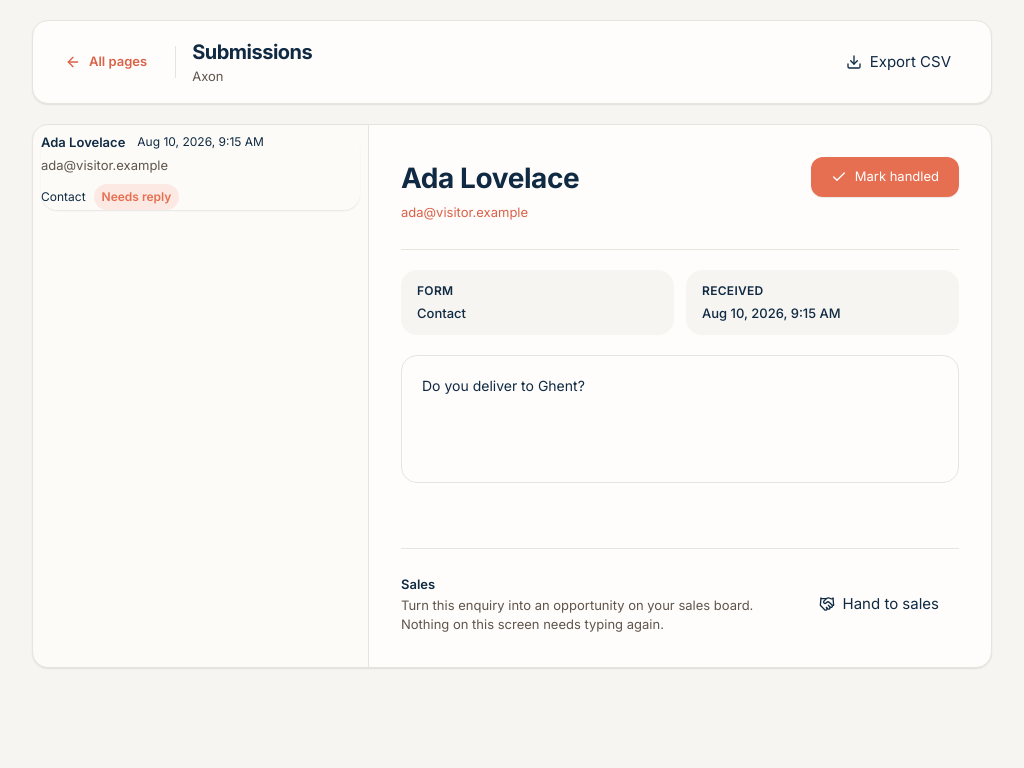
Test case: handing an enquiry to sales › asks only for what a person decides, and retypes nothing
Click the button "Hand to sales" at (879, 604), box left=798, top=584, right=959, bottom=624
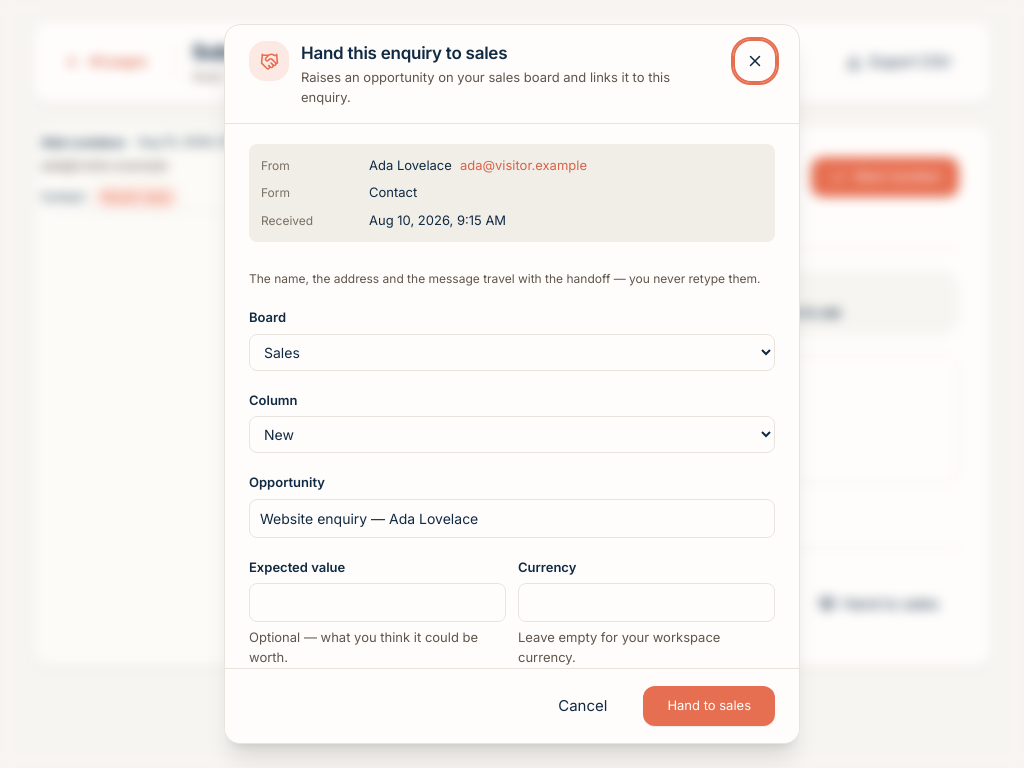
Result: the text "Ada Lovelace" is shown at left=369, top=156, right=452, bottom=172
Result: the link "ada@visitor.example" is shown at left=460, top=156, right=587, bottom=175
Result: the text "The name, the address and the message travel with the handoff — you never retype them." is shown at left=249, top=271, right=760, bottom=286
Type "2500,50" into the field labelled "Expected value" at (378, 602), box left=249, top=583, right=506, bottom=622
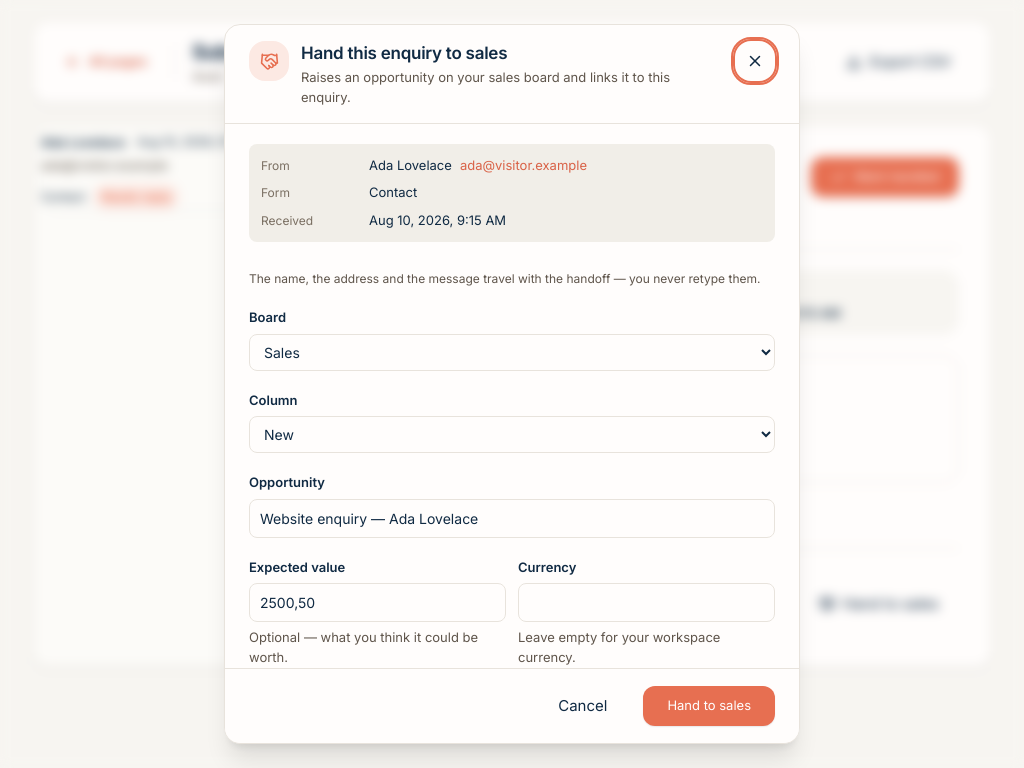
Click the button "Hand to sales" at (709, 706), box left=643, top=686, right=775, bottom=726
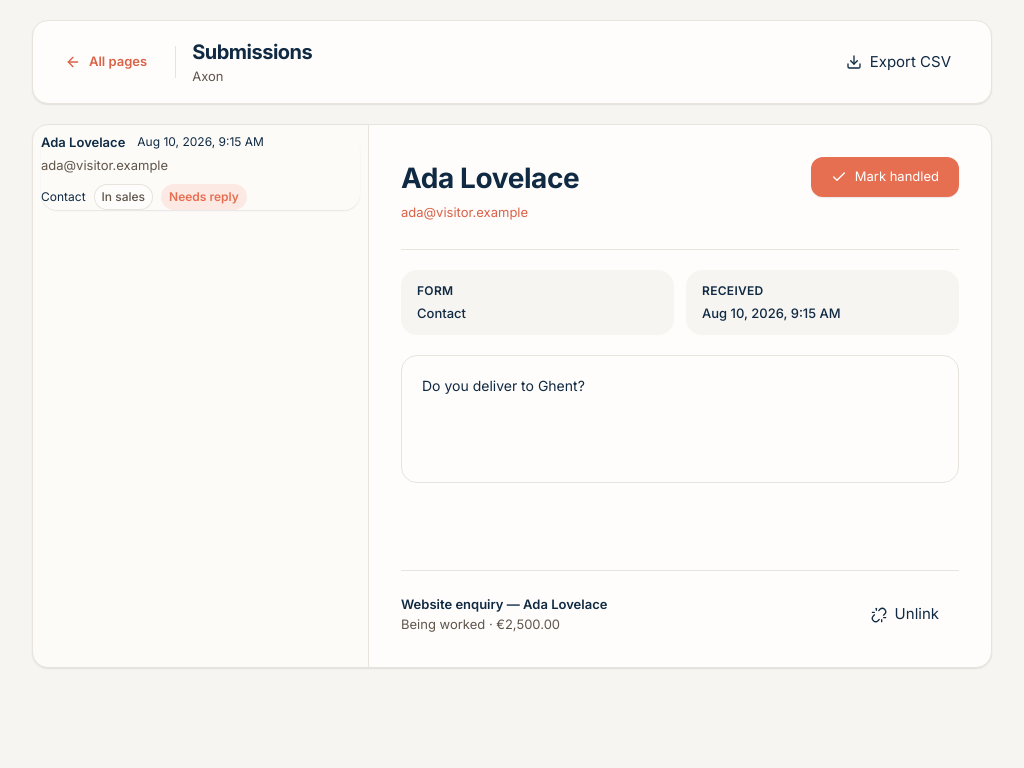
Result: the text "In sales" is shown at left=94, top=184, right=153, bottom=210
Result: the text "Website enquiry — Ada Lovelace" is shown at left=401, top=595, right=607, bottom=614
